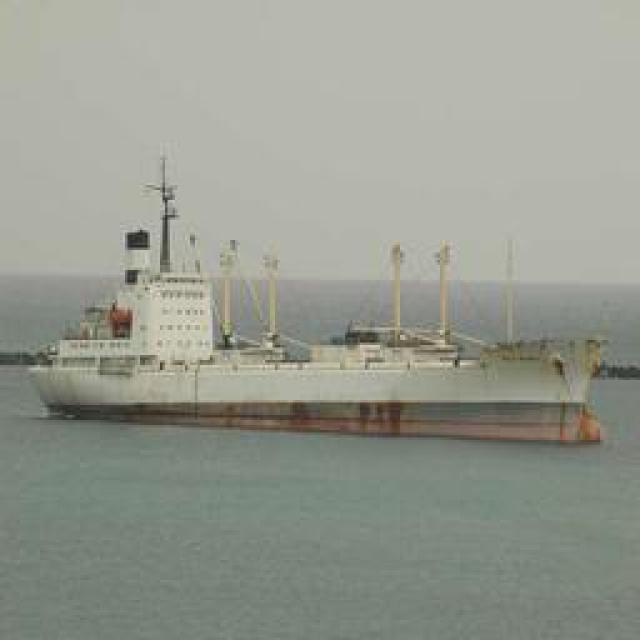Ship: (19, 150, 622, 448)
